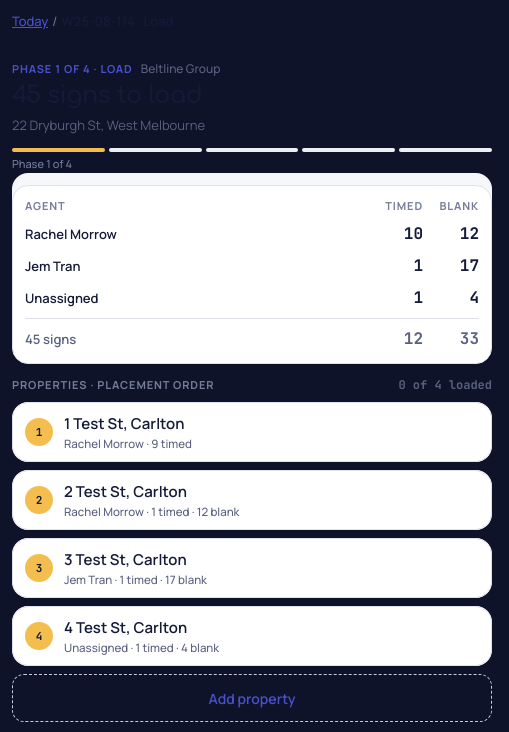
Scenario: Operator Load page › timed signs checklist › removes a property swiped left, saving it and leaving it out of the count
The width and height of the screenshot is (509, 732).
Press the mouse on the button "3 3 Test St, Carlton Jem Tran · 1 timed · 17 blank" at (125, 560), box [12,538,492,598]
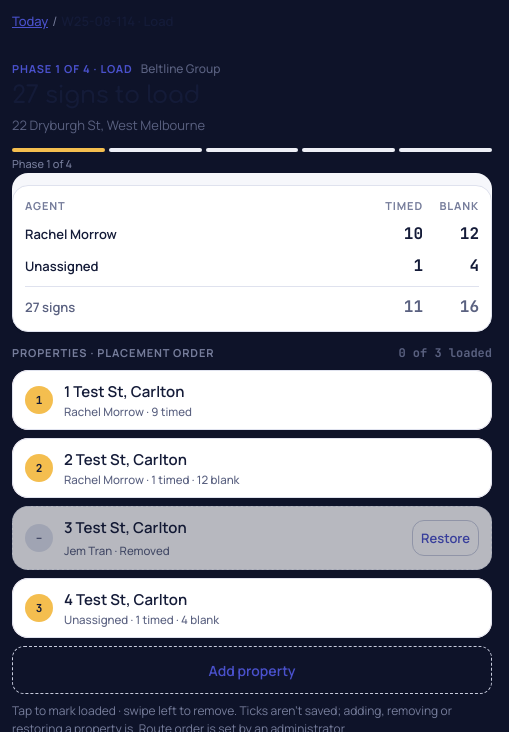
expect the text "3 Test St, Carlton" is shown: met, box [64,517,187,538]
expect the text "Jem Tran · Removed" is shown: met, box [64,543,170,558]
expect the text "0 of 3 loaded" is shown: met, box [398,344,492,362]
